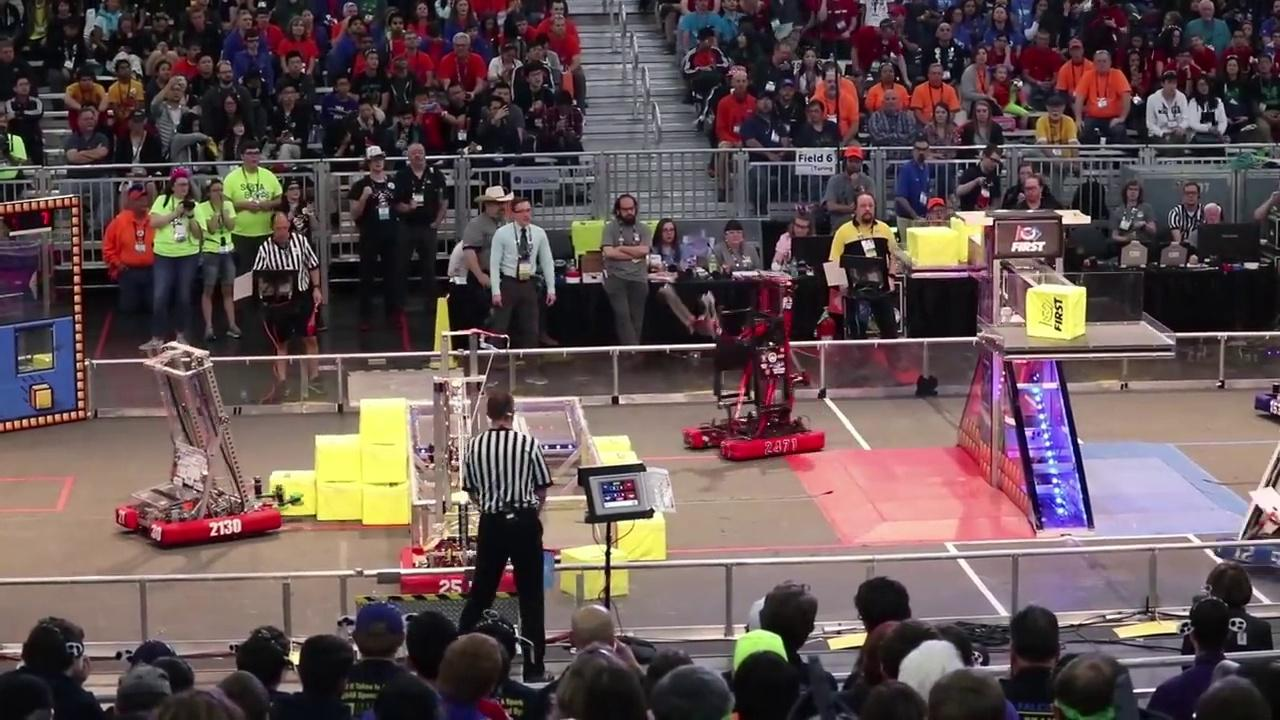robot: (107, 339, 289, 553), (680, 273, 832, 466), (393, 368, 480, 593)
